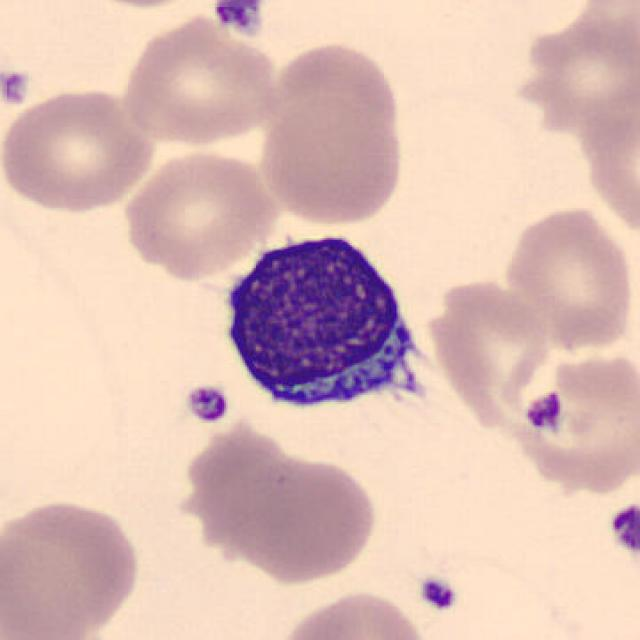Lymphocyte: (210, 217, 444, 423)
Platelets: (210, 0, 272, 39), (181, 381, 233, 426), (606, 499, 640, 562), (414, 573, 462, 615), (522, 389, 564, 434), (0, 66, 32, 110)
RBC: (117, 11, 283, 148), (119, 145, 279, 282), (0, 83, 160, 215), (0, 494, 146, 638), (499, 201, 636, 354), (256, 91, 409, 226), (233, 452, 382, 586), (510, 346, 638, 499), (258, 35, 407, 155), (514, 16, 640, 156), (580, 79, 640, 234), (272, 585, 434, 640), (60, 0, 223, 12)
